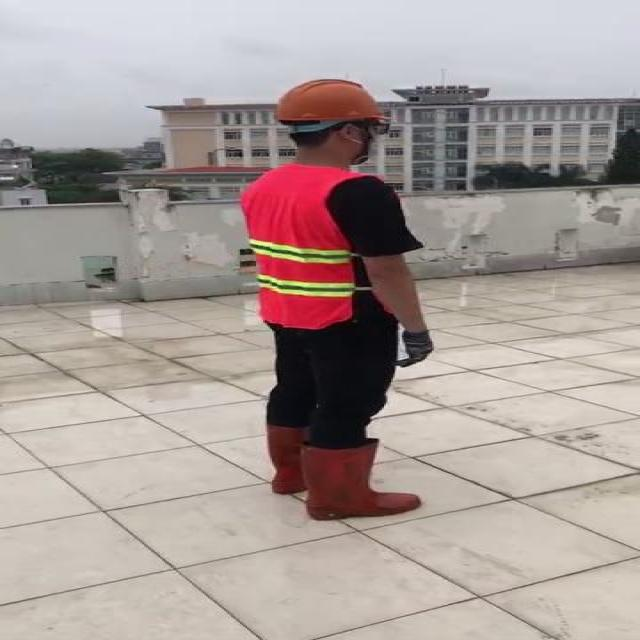boots: (306, 440, 426, 519), (260, 417, 314, 500)
hand_glove: (397, 327, 433, 369)
head_helmet: (270, 74, 388, 126)
person: (220, 72, 447, 524)
vest: (240, 164, 357, 328)
